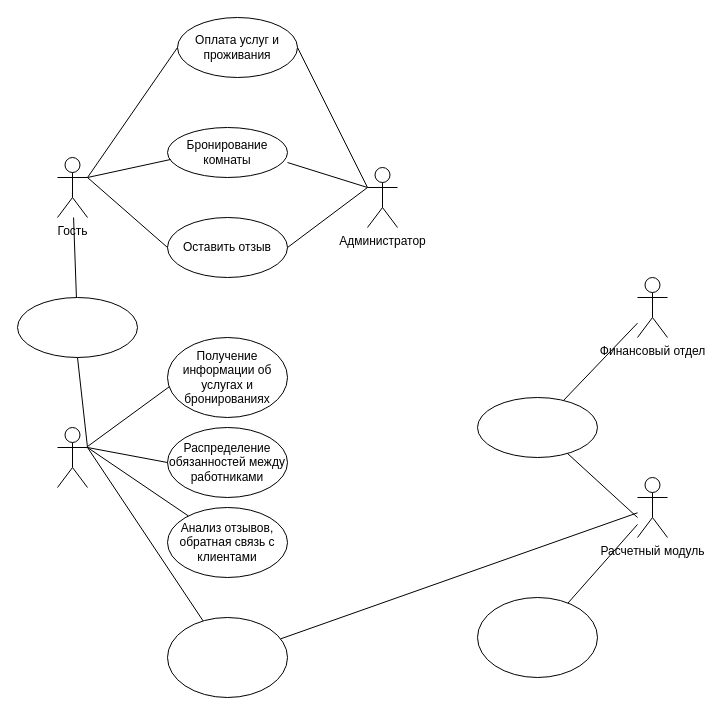
This 722x715 diagram has some shape labels left out. Each missing label, with the centre of its shape:
"Жалоба" goes at (x=77, y=327).
"Менеджер" goes at (x=72, y=457).
"Передача информации о рассчитаных зарплатах" goes at (x=537, y=427).
"Расчет зарплаты сотрудников на основе информации о выполненной работе" goes at (x=537, y=637).
"Сообщение о выполненной или невыполненной работе подчиненного" goes at (x=227, y=657).
